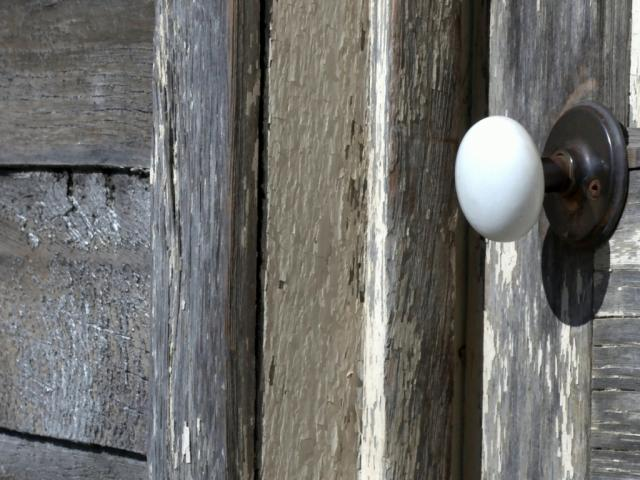Door-handle: (454, 101, 628, 253)
